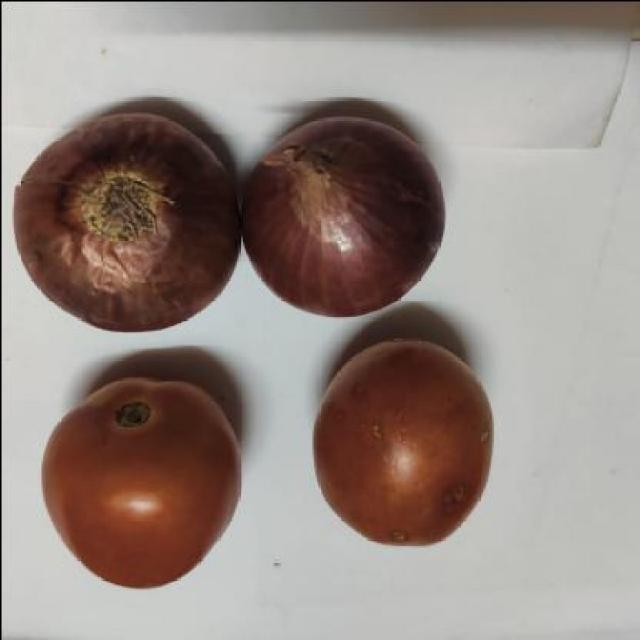Onion: (0, 96, 238, 338), (234, 106, 452, 328)
Tomato: (296, 326, 526, 562), (34, 363, 248, 594)
